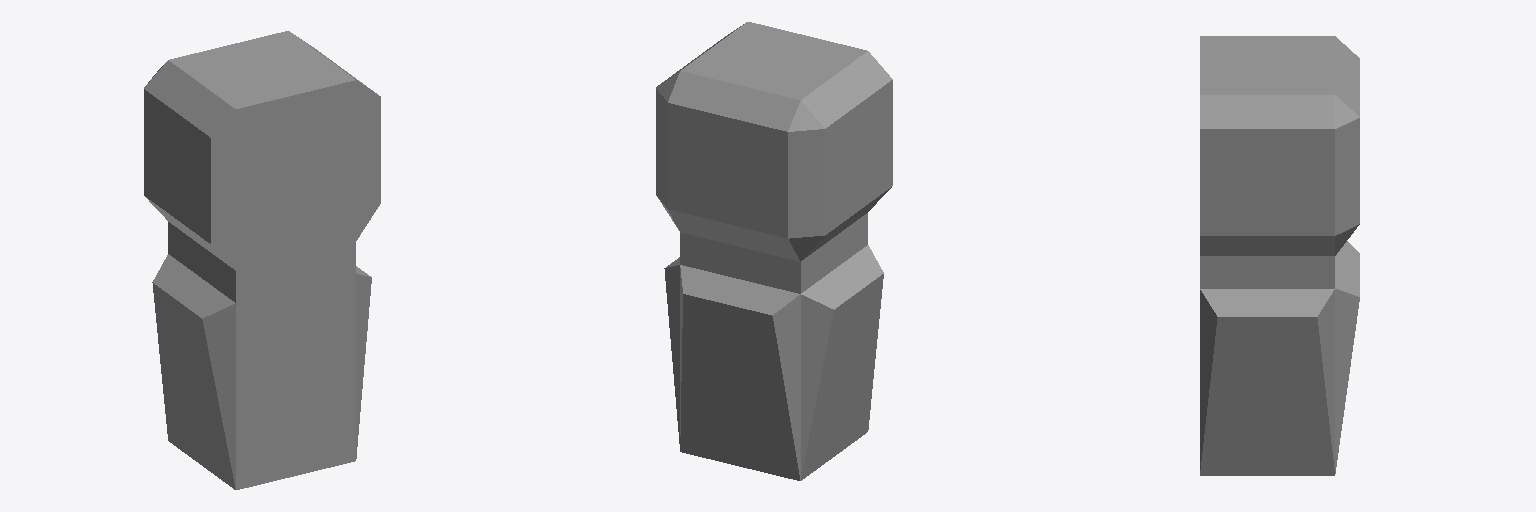
File: overloaded_left_arm.obj
3 views of the same model, side by side, from view 1: azimuth 30°, elevation 25°; view 2: azimuth 150°, elevation 25°; view 3: azimuth 270°, elevation 25° (orthographic).
Visible parts, largest first — view 1: left_arm_Cube.003; view 2: left_arm_Cube.003; view 3: left_arm_Cube.003.
Boxes of the visible parts, x1=… form: left_arm_Cube.003: x1=144, y1=31, x2=380, y2=489; left_arm_Cube.003: x1=656, y1=22, x2=892, y2=480; left_arm_Cube.003: x1=1200, y1=36, x2=1359, y2=475.
Size of the model in its own units: 0.3812 by 0.8177 by 0.3119.